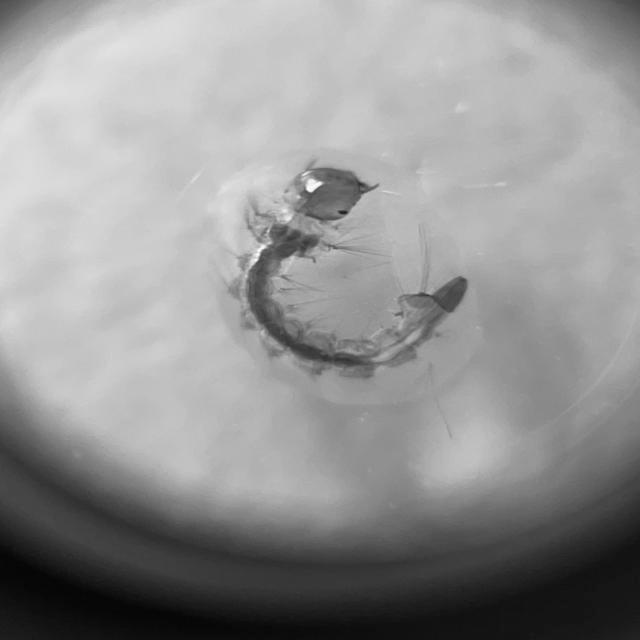larvas: (245, 163, 467, 380)
